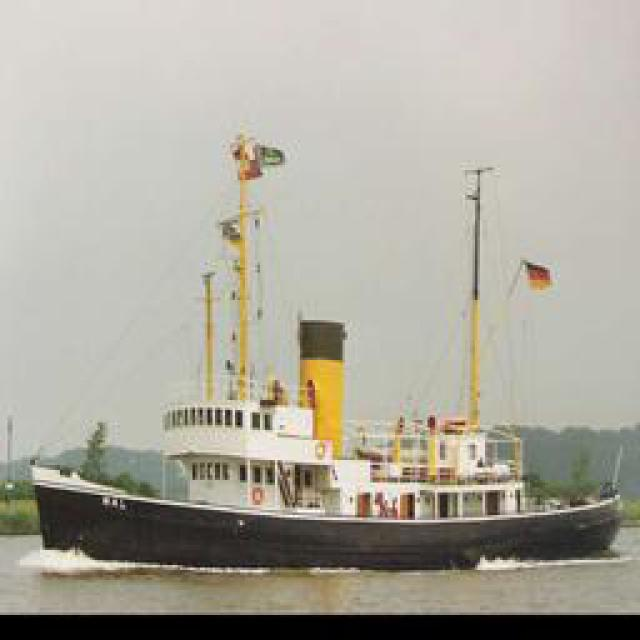Ship: (35, 446, 620, 574)
